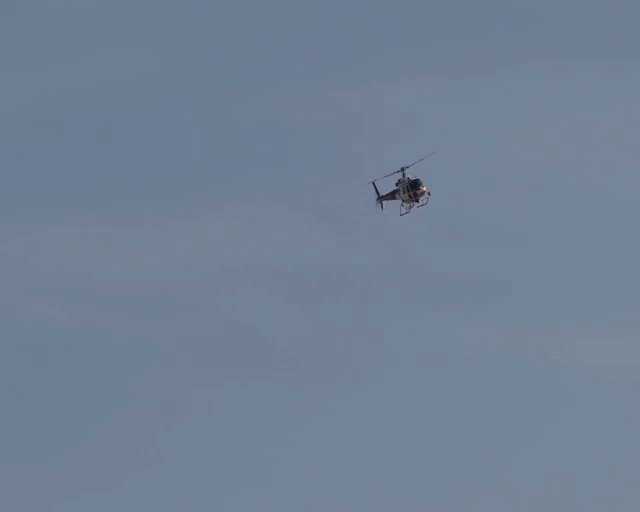HELICOPTER: (368, 149, 438, 216)
